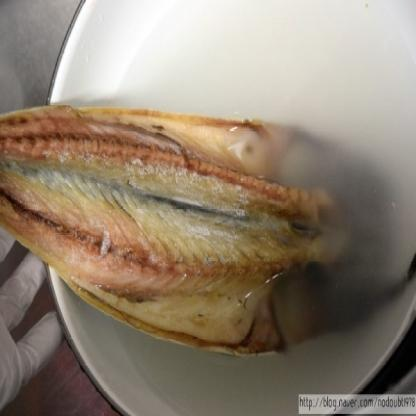Peixe: (0, 113, 281, 357)
